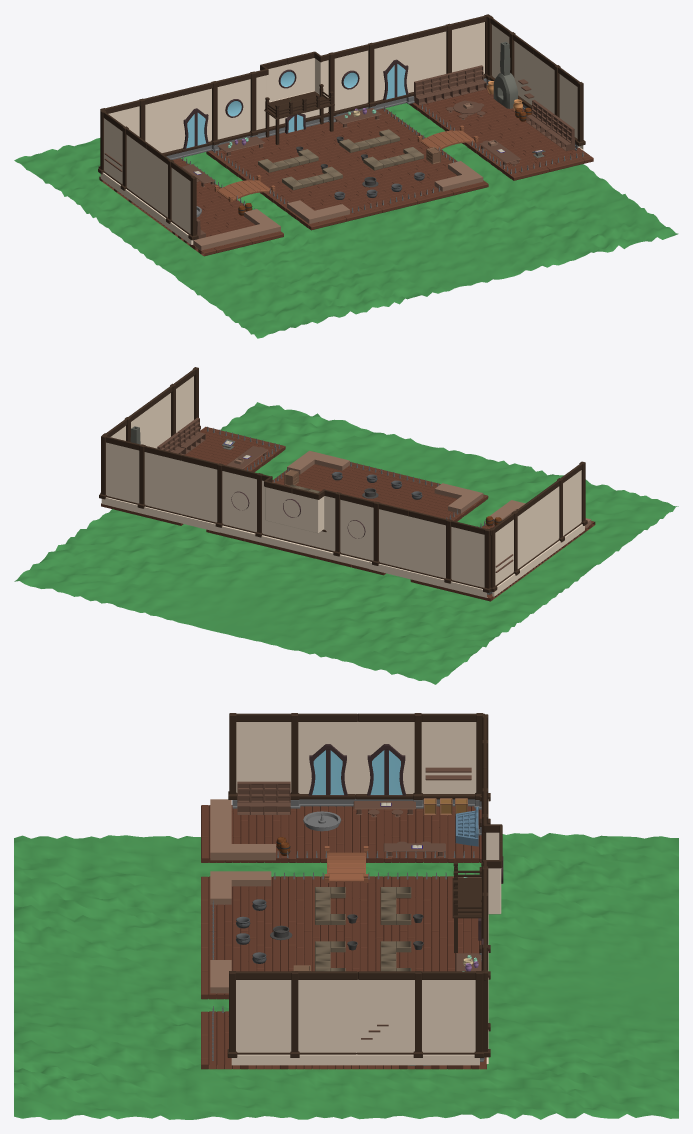
The model's file is SalaDePreparo_Blocagem.fbx.
3 views of the same model, one above another, from view 1: azimuth 30°, elevation 25°; view 2: azimuth 150°, elevation 25°; view 3: azimuth 270°, elevation 25° (orthographic). The views are drawn at different scales.
Visible parts, largest first — view 1: Plane.009, Piso Madeira.006, Piso Madeira.007, Parede.014, Parede.016, Parede.018, Parede.015, Parede.017, Piso Madeira.008, Bancada/estante.004, MadeiraParede.039, Plane.010 (+17 smaller); view 2: Plane.009, Parede.014, Parede.018, Parede.017, Piso Madeira.006, Parede.016, Parede.015, Piso Madeira.007, Bancada/estante.004, MadeiraParede.039, MadeiraParede.043, MadeiraParede.045 (+9 smaller); view 3: Plane.009, Piso Madeira.006, Parede.015, Parede.016, Piso Madeira.008, Piso Madeira.007, MadeiraParede.041, MadeiraParede.043, Bancada/estante.003, MadeiraParede.046, MadeiraParede.047, Bancada/estante.004 (+14 smaller).
Boxes of the visible parts, bbox=[...] form: Plane.009: bbox=[14, 103, 678, 338]; Piso Madeira.006: bbox=[206, 108, 488, 230]; Piso Madeira.007: bbox=[409, 86, 593, 180]; Parede.014: bbox=[217, 50, 368, 139]; Parede.016: bbox=[100, 118, 193, 244]; Parede.018: bbox=[374, 22, 484, 101]; Parede.015: bbox=[492, 24, 583, 149]; Parede.017: bbox=[108, 88, 211, 152]; Piso Madeira.008: bbox=[99, 158, 283, 256]; Bancada/estante.004: bbox=[287, 161, 483, 223]; MadeiraParede.039: bbox=[211, 42, 375, 145]; Plane.010: bbox=[214, 125, 478, 202]; Plane.009: bbox=[14, 402, 678, 684]; Parede.014: bbox=[218, 471, 373, 569]; Parede.018: bbox=[101, 442, 219, 532]; Parede.017: bbox=[369, 507, 487, 597]; Piso Madeira.006: bbox=[206, 462, 488, 575]; Parede.016: bbox=[492, 470, 584, 596]; Parede.015: bbox=[110, 376, 193, 448]; Piso Madeira.007: bbox=[101, 426, 285, 525]; Bancada/estante.004: bbox=[287, 450, 483, 513]; MadeiraParede.039: bbox=[215, 463, 379, 565]; MadeiraParede.043: bbox=[489, 461, 587, 591]; MadeiraParede.045: bbox=[218, 463, 377, 506]; Plane.009: bbox=[14, 833, 678, 1119]; Piso Madeira.006: bbox=[201, 876, 481, 999]; Parede.015: bbox=[231, 979, 479, 1065]; Parede.016: bbox=[236, 722, 476, 794]; Piso Madeira.008: bbox=[201, 805, 481, 862]; Piso Madeira.007: bbox=[201, 1011, 486, 1069]; MadeiraParede.041: bbox=[227, 971, 483, 1057]; MadeiraParede.043: bbox=[228, 713, 482, 799]; Bancada/estante.003: bbox=[210, 799, 275, 860]; MadeiraParede.046: bbox=[232, 713, 484, 721]; MadeiraParede.047: bbox=[232, 971, 484, 979]; Bancada/estante.004: bbox=[210, 871, 271, 993].
Size of the model in its own units: 84.82 by 19.11 by 84.82.
